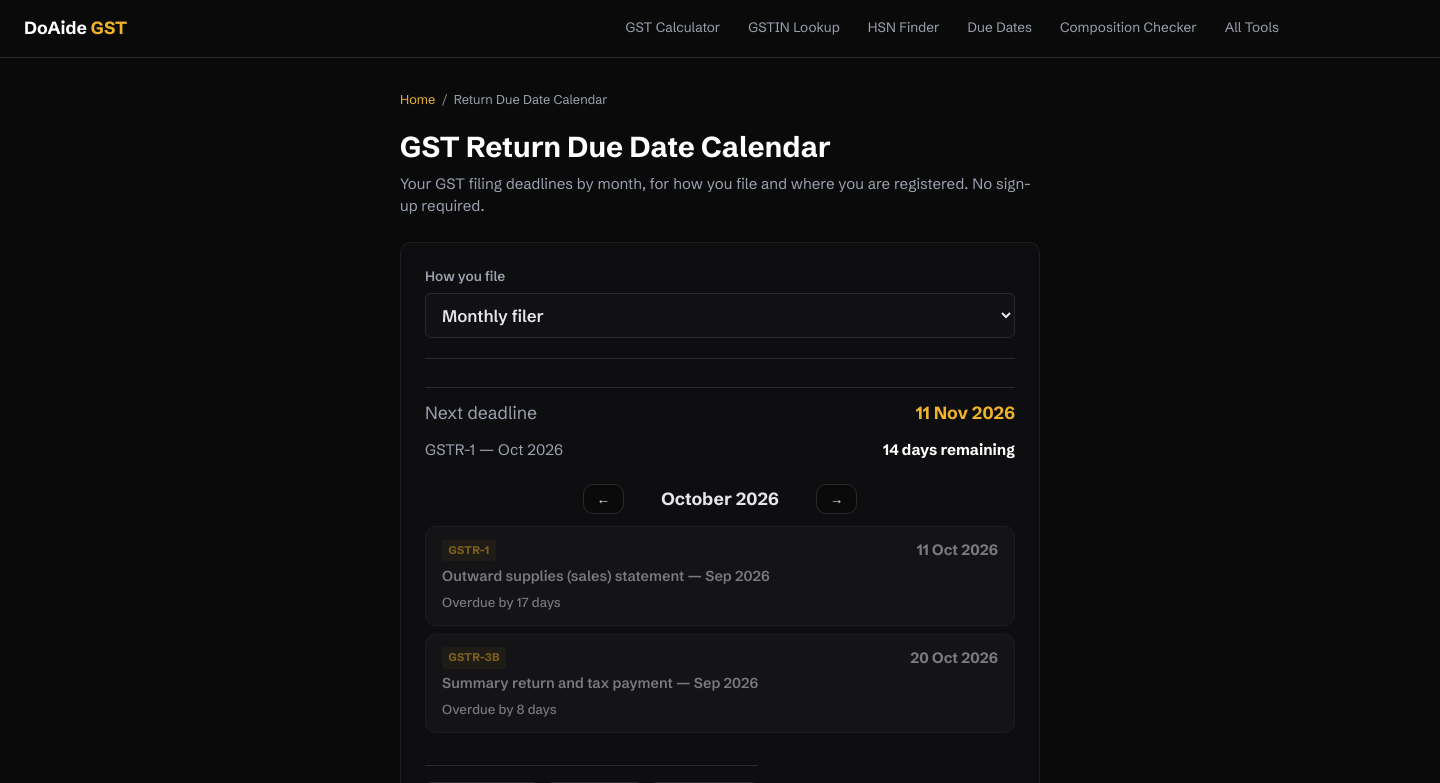
Test: ReturnDueDateCalendarPage › gives a QRMP filer PMT-06 as next, skipping the optional IFF
Select "Quarterly filer (QRMP, turnover up to ₹5 crore)" in the dropdown labelled "How you file". click: (720, 316)
box: [425, 293, 1015, 338]
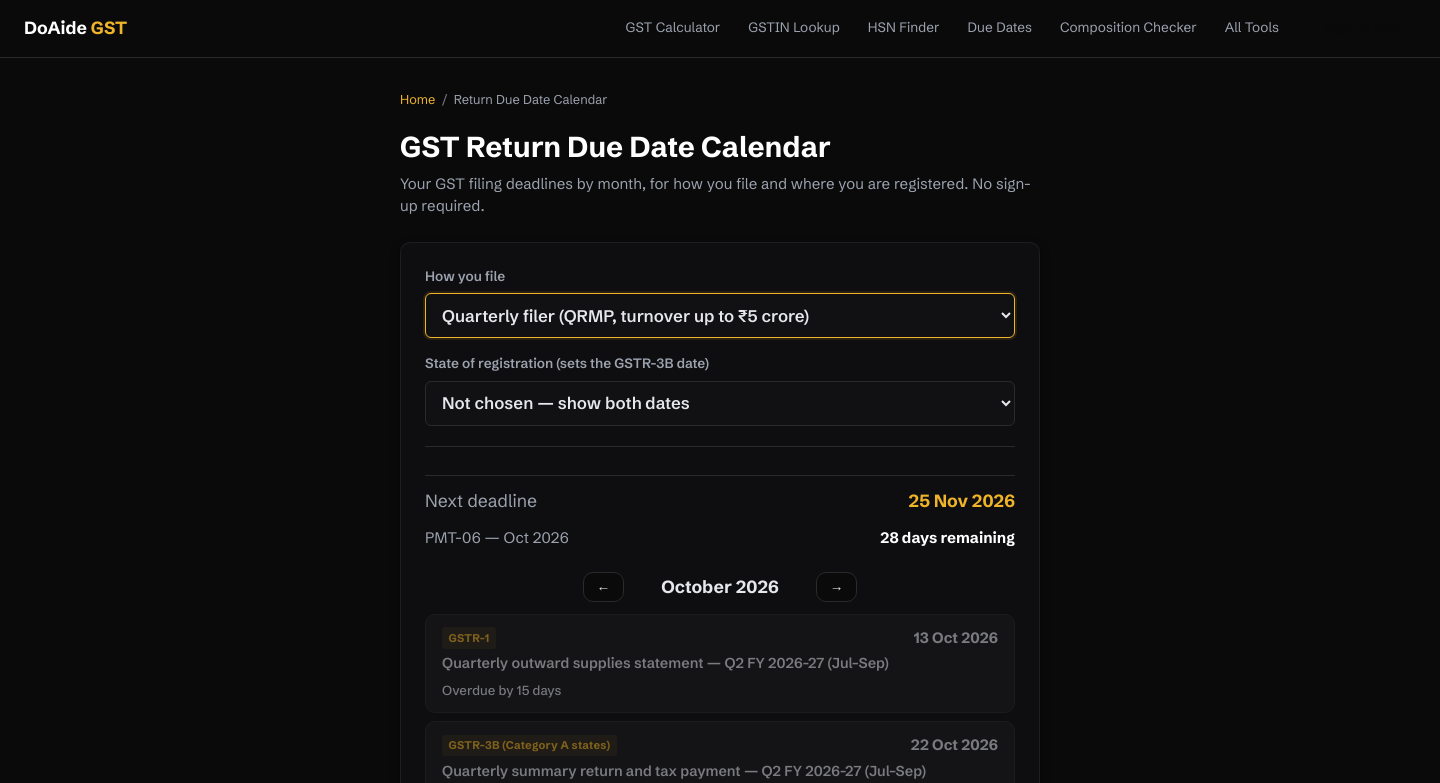
Click the button named "Next month". click: click(837, 587)
box: [816, 572, 857, 602]
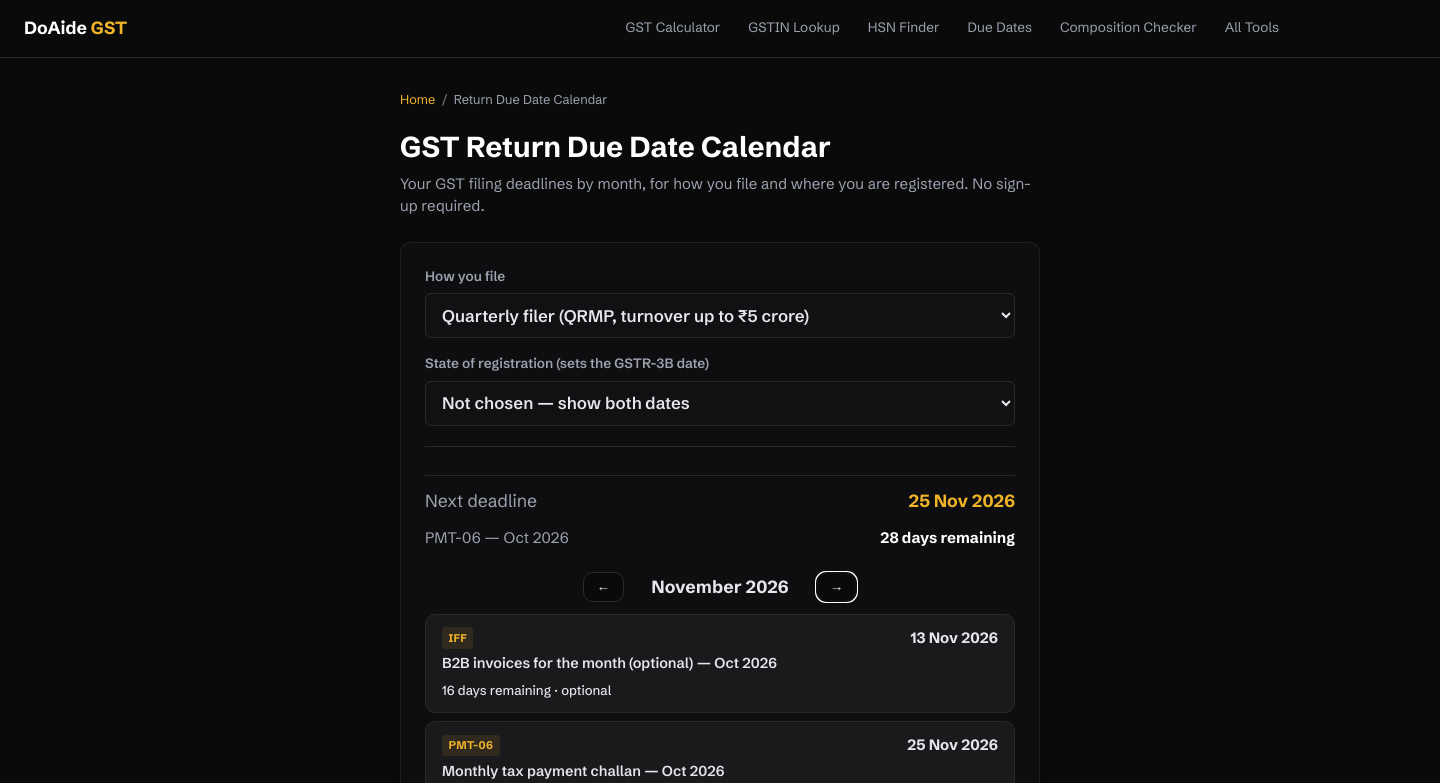
Expected: the element with test id "next-deadline" does not show "IFF", [425, 446, 1015, 556]
Result: the element with test id "next-deadline" shows "PMT-06" at [425, 528, 481, 547]
Result: the element with class "calendar-date-card" shows "optional" at [442, 654, 693, 672]
